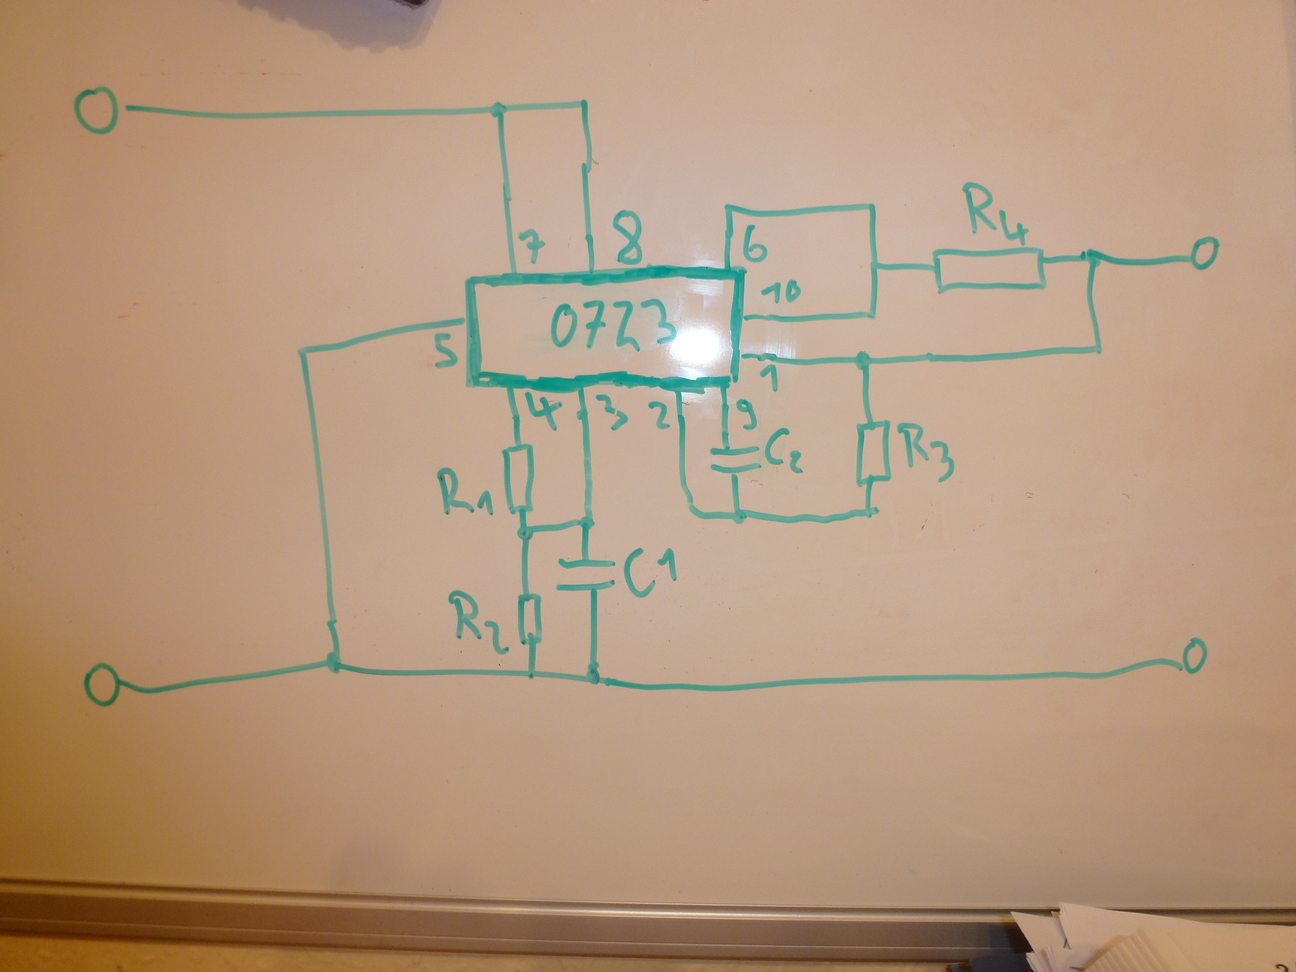capacitor.unpolarized: (555, 545, 619, 603), (708, 439, 763, 479)
integrated_circuit: (463, 263, 747, 395)
junction: (1078, 244, 1108, 275), (579, 665, 609, 694), (320, 650, 348, 678), (849, 347, 875, 377), (725, 506, 750, 528), (514, 521, 538, 543), (487, 99, 509, 121), (574, 513, 597, 534), (518, 662, 542, 683), (861, 500, 883, 522), (679, 501, 701, 522), (864, 258, 886, 278), (574, 95, 594, 114), (1089, 341, 1108, 360), (721, 198, 739, 218), (293, 343, 313, 360), (864, 199, 881, 215), (864, 306, 879, 324)
resistor: (928, 245, 1058, 296), (852, 417, 895, 491), (501, 439, 538, 516), (515, 587, 549, 649)
terminal: (72, 85, 133, 136), (82, 661, 130, 710), (1168, 634, 1215, 678), (1184, 229, 1226, 276)
text: (546, 294, 681, 357), (958, 178, 1036, 245), (446, 588, 513, 658), (896, 421, 958, 482), (621, 544, 681, 600), (434, 466, 496, 518), (609, 208, 647, 265), (764, 427, 805, 474), (522, 391, 564, 433), (594, 392, 630, 432), (739, 221, 771, 263), (761, 276, 803, 305), (432, 330, 460, 371), (517, 225, 545, 265), (732, 397, 760, 431), (645, 400, 672, 430), (757, 363, 783, 394)
